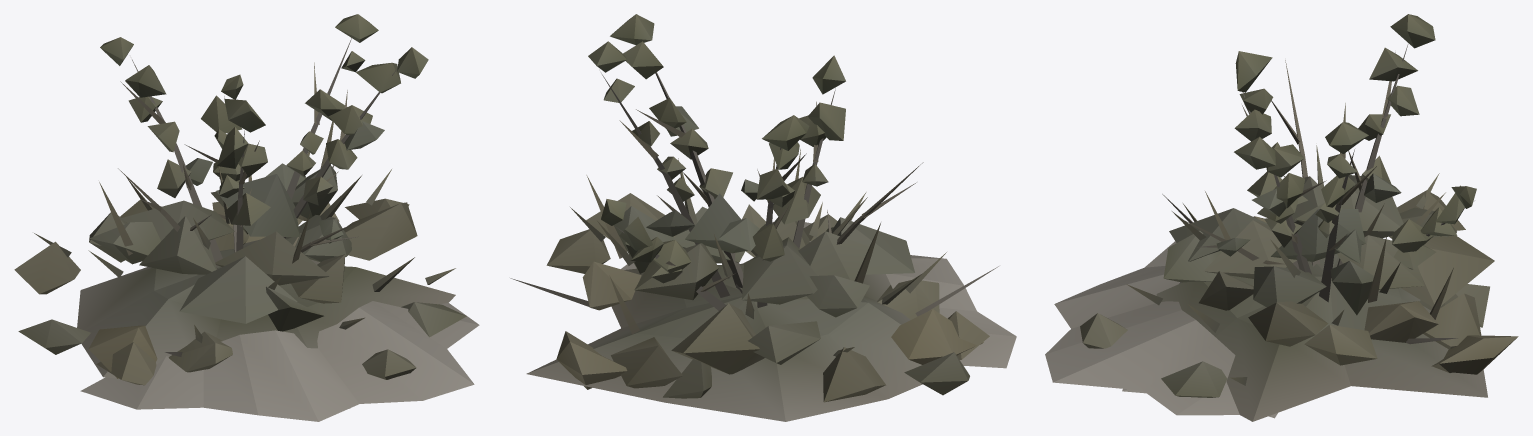
File: bush.glb
3 renders of one model, left to right at view 1: azimuth 30°, elevation 25°; view 2: azimuth 150°, elevation 25°; view 3: azimuth 270°, elevation 25°, orthographic. The views are drawn at different scales.
Parts seen in each view (by area): view 1: Bush_A, Bush_B; view 2: Bush_A, Bush_B; view 3: Bush_A, Bush_B.
Boxes of the visible parts, x1,y1,x2,y2 form: Bush_A: (14, 121, 479, 421); Bush_B: (100, 14, 428, 408); Bush_A: (510, 149, 1016, 421); Bush_B: (588, 14, 923, 310); Bush_A: (1045, 103, 1518, 421); Bush_B: (1122, 14, 1476, 418).
Bounding box in the file's own units: 1.81 × 1.23 × 1.83.
